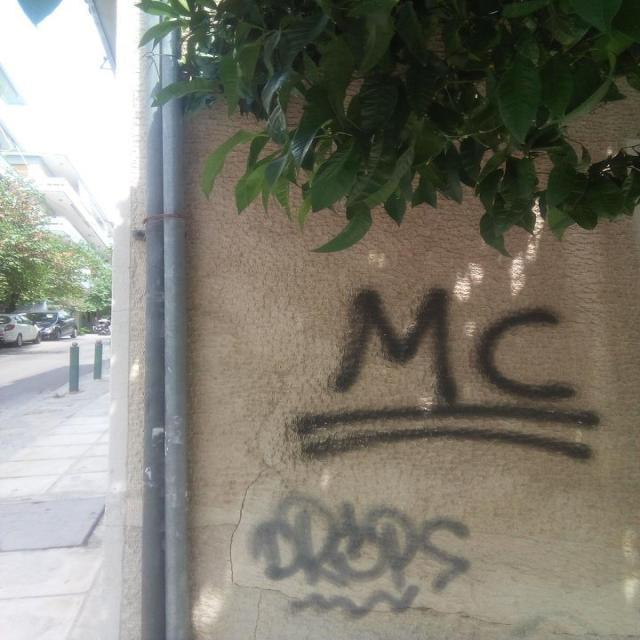nonspitting: (294, 286, 600, 464), (245, 490, 474, 620)
